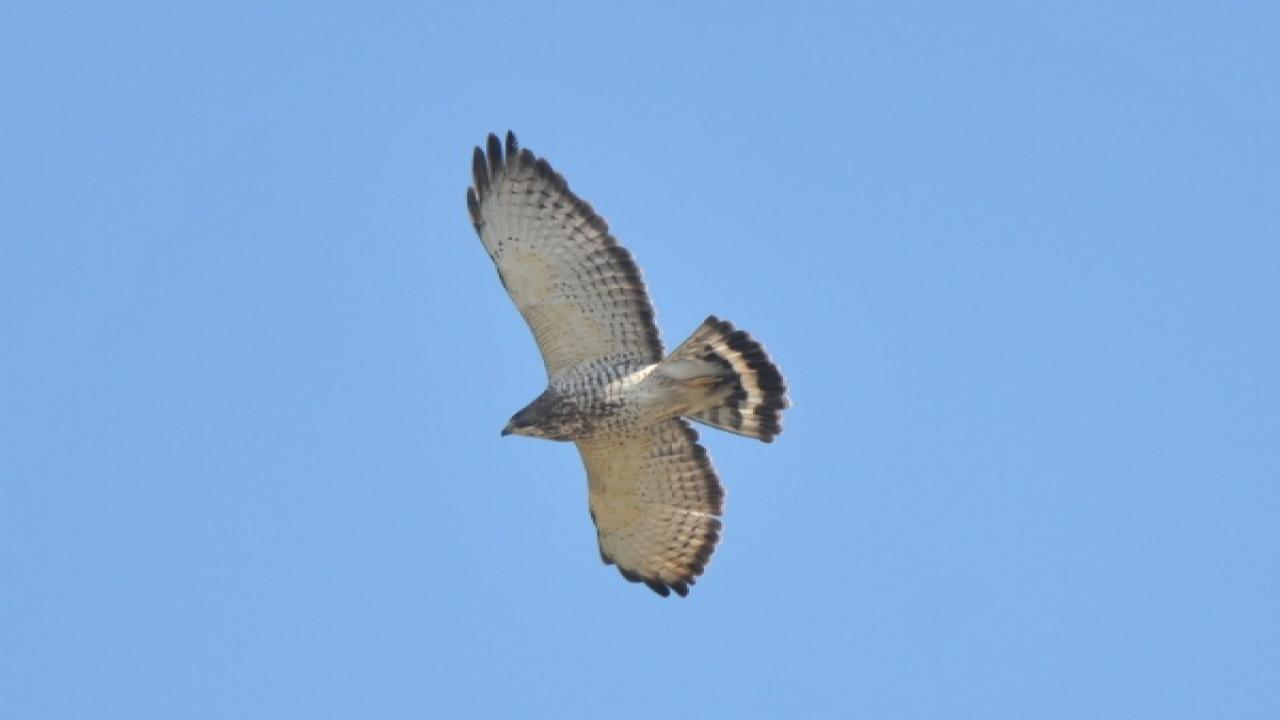Bird: (449, 123, 807, 608)
